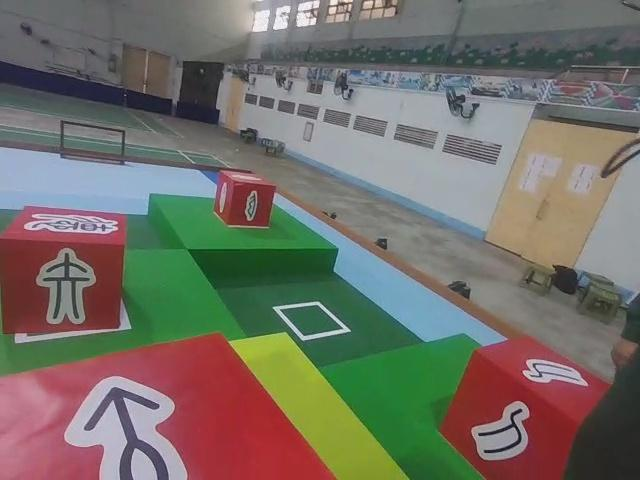R2 Fake: (0, 202, 130, 337)
R2 Real: (0, 330, 339, 478), (437, 333, 616, 480), (211, 169, 277, 231)
